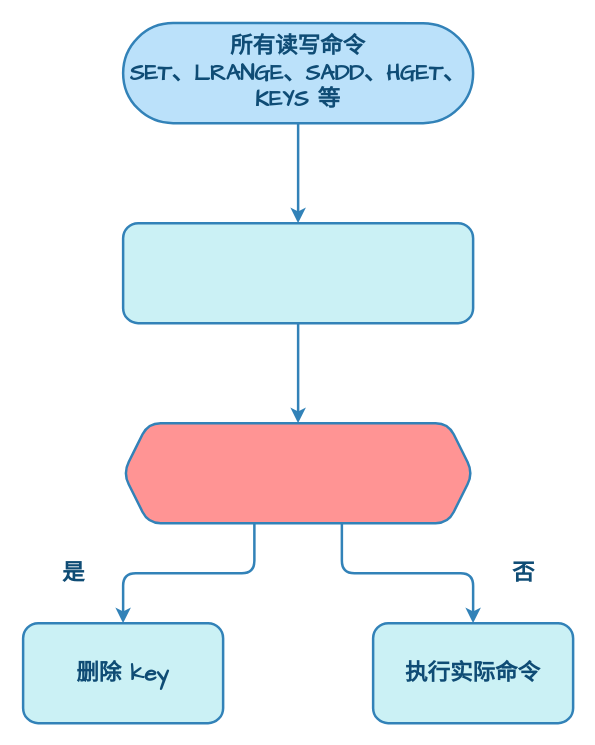
Some shapes in this 595 by 745 pixel diagram are drawn without their labels. Here are the shapes that lost their labels. From the top down, the centre of each, then its label:
At pixel 297 272: "调用 expireIfNeeded 函数".
At pixel 297 472: "key 是否已过期".
